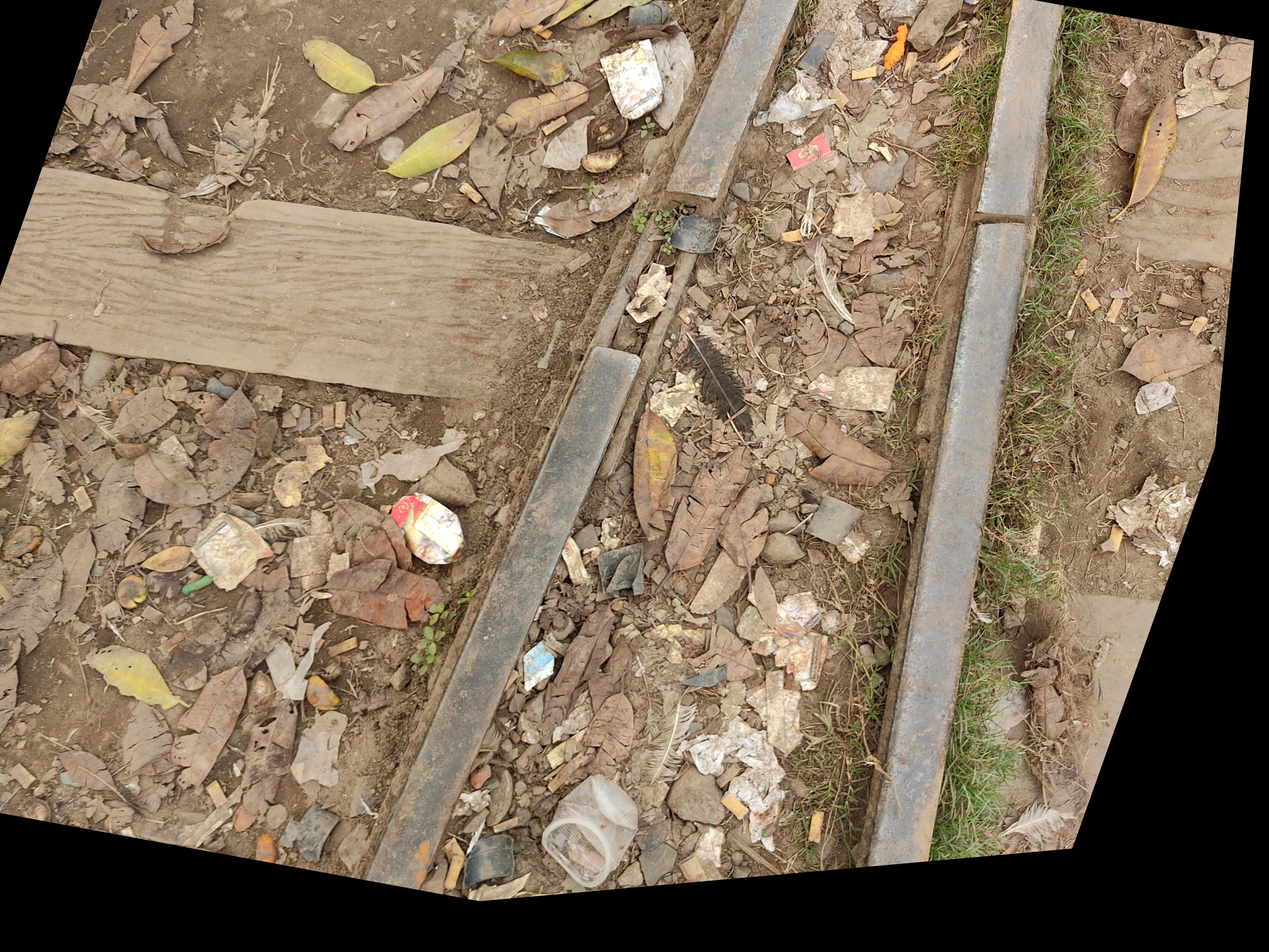person: (698, 0, 910, 296), (1094, 26, 1223, 152)
